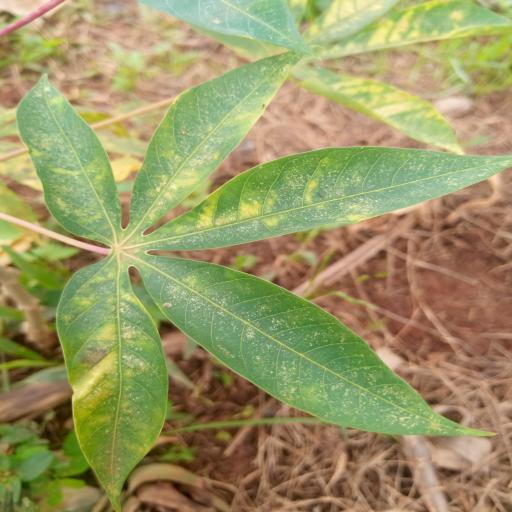Cassava_Mosaic: (17, 54, 512, 512)
